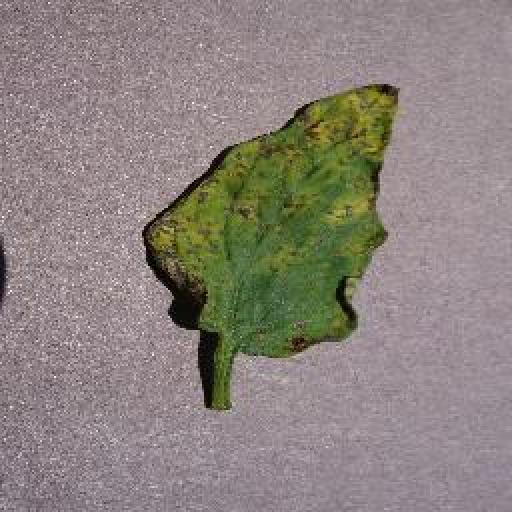disease_tomato: (144, 82, 403, 358)
